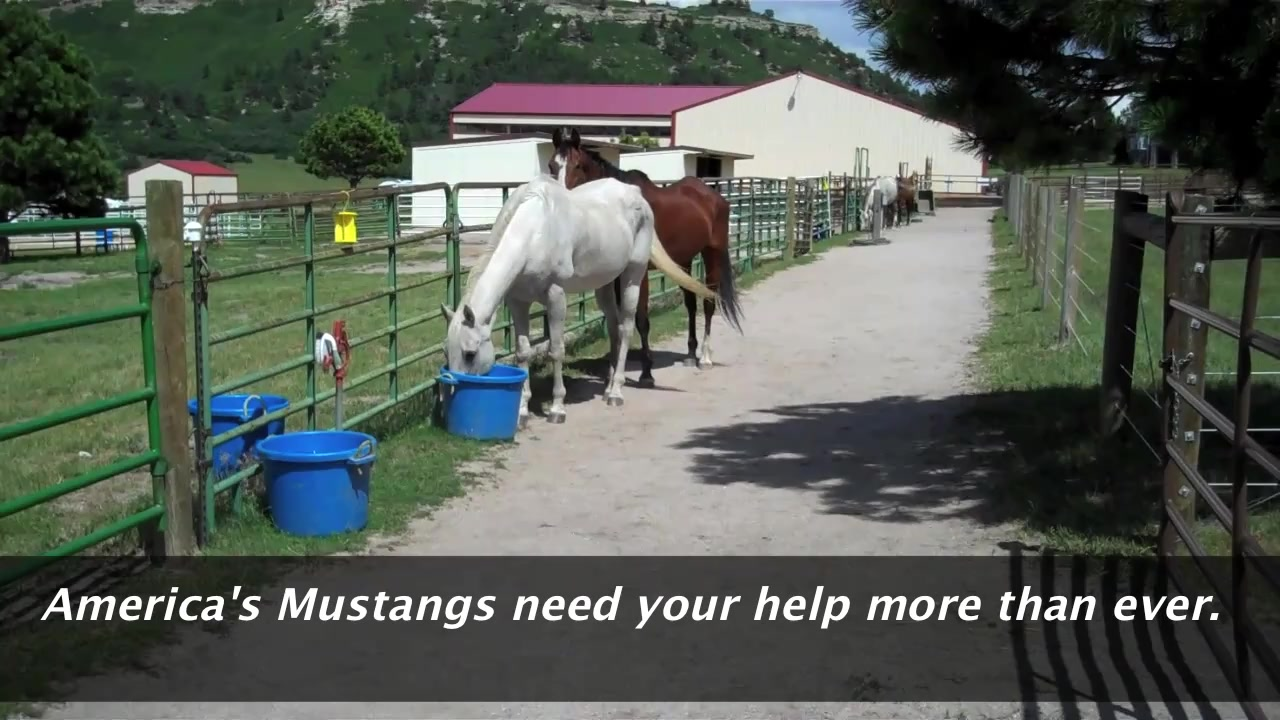horse: (437, 176, 725, 427), (543, 123, 745, 386), (856, 175, 901, 231), (891, 171, 923, 227)
